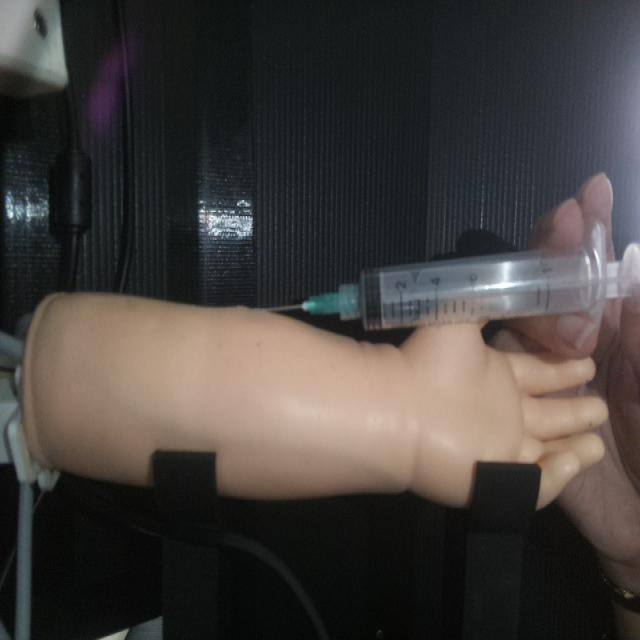Outside: (252, 219, 638, 331)
